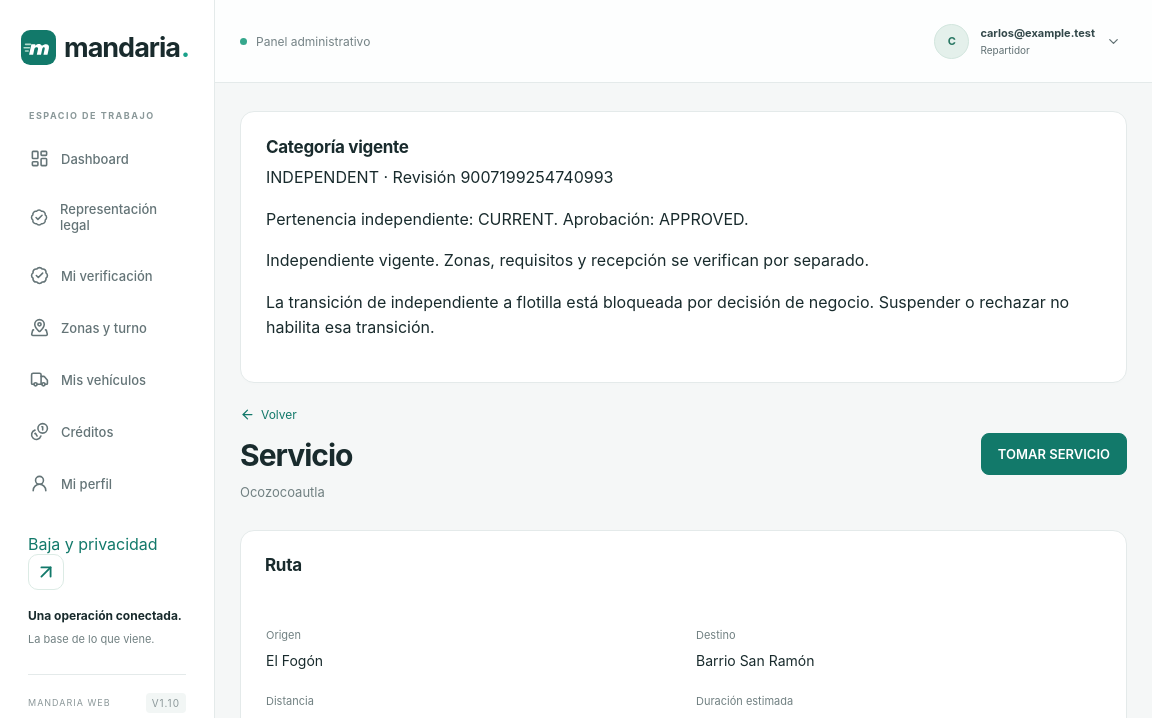
Test case: take › keeps saying the service is gone when the refetch after a lost race is a 404
Click the button "TOMAR SERVICIO" at (1054, 454), box [981,433,1127,475]
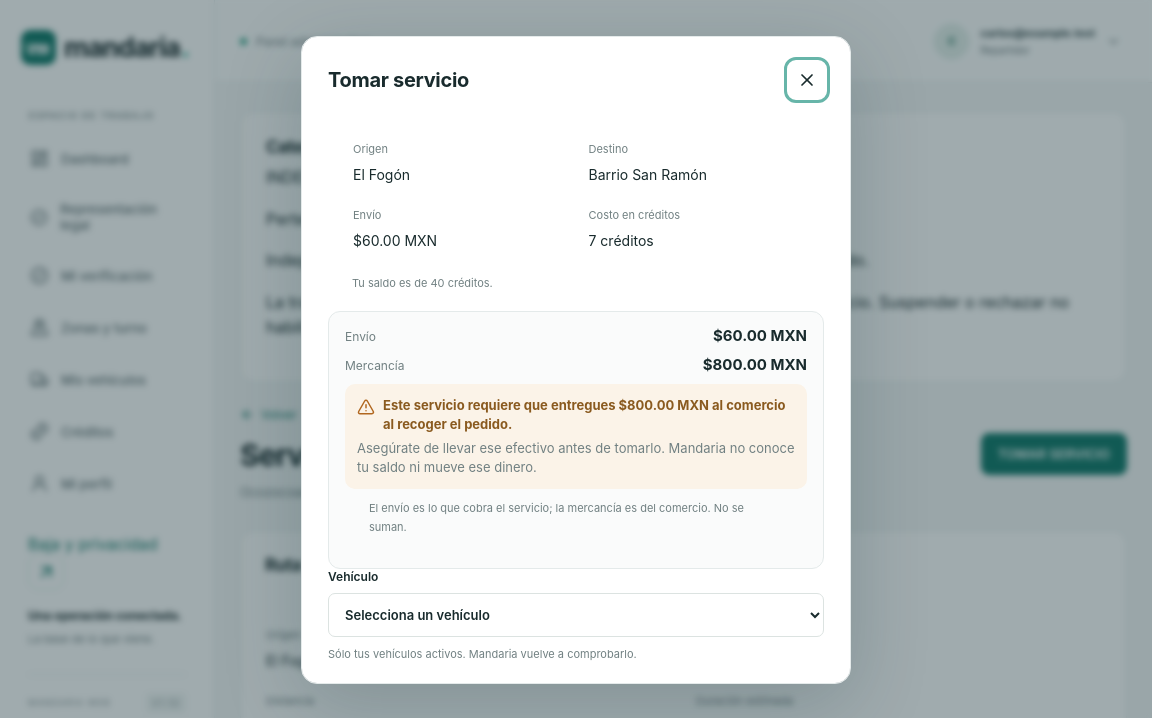
Select "MOTO-IND-1 · Motocicleta" in the dropdown labelled "Vehículo" at (576, 615), box [328,593,824,637]
(page scrolled)
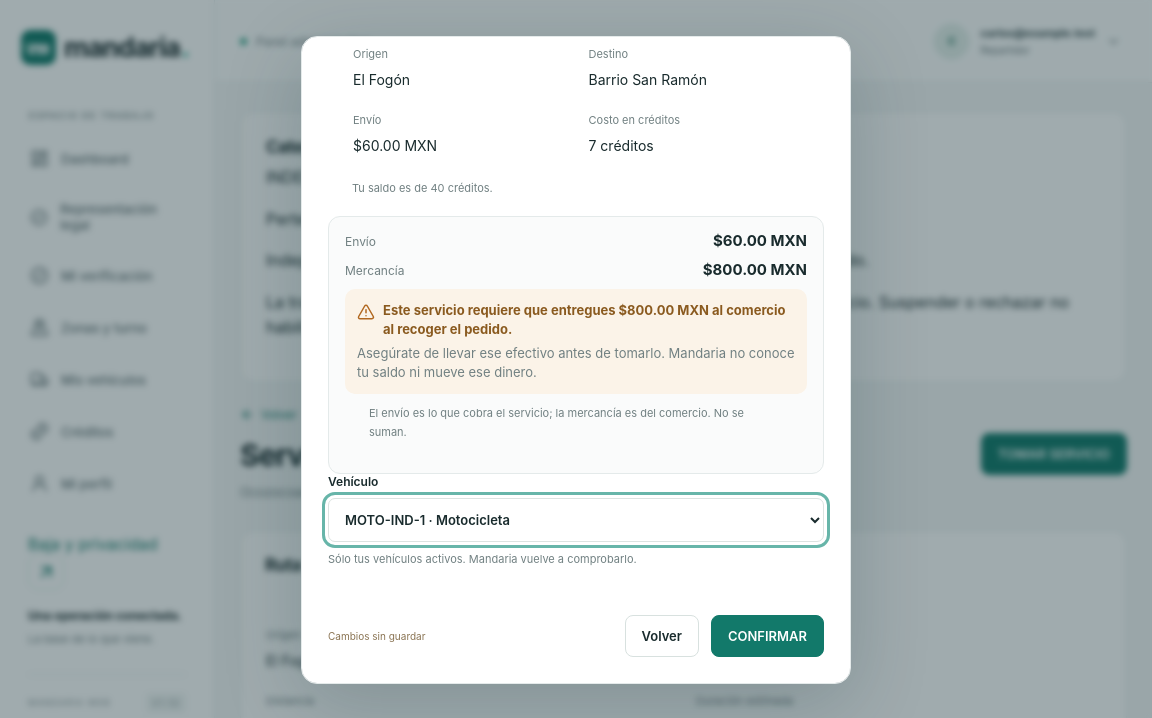
Click the button "CONFIRMAR" at (767, 636), box [711,615,824,657]
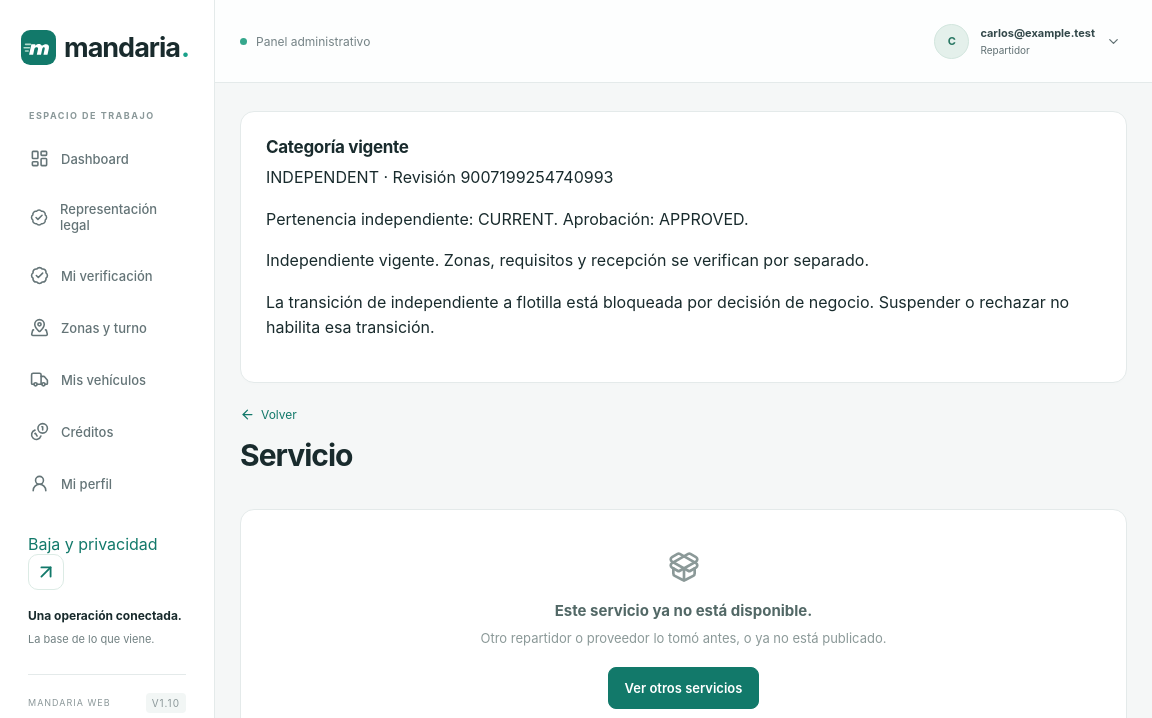
Result: the heading "Este servicio ya no está disponible." is shown at [555,601,812,620]
